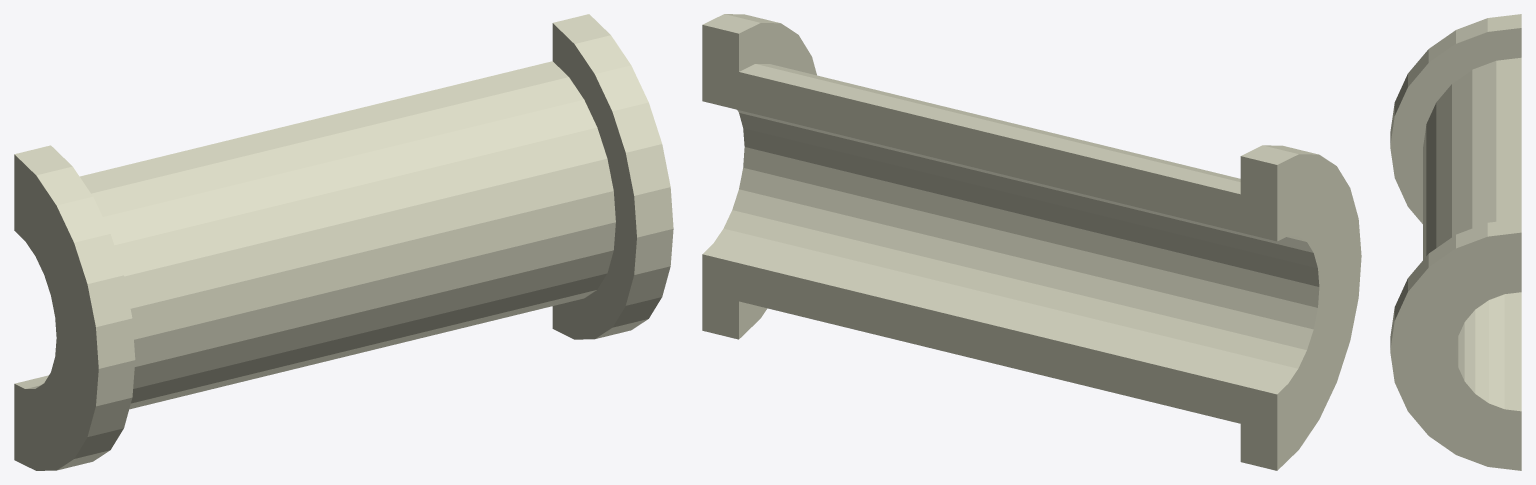
The model's file is section_142.obj.
3 renders of one model, left to right at view 1: azimuth 30°, elevation 25°; view 2: azimuth 150°, elevation 25°; view 3: azimuth 270°, elevation 25°, orthographic. The views are drawn at different scales.
Size of the model in its own units: 15.73 by 8 by 4.
